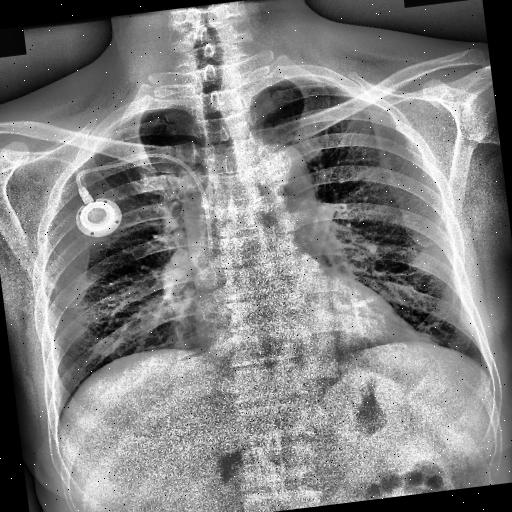0- Aortic enlargement: (238, 140, 314, 212), (244, 140, 316, 211), (248, 142, 316, 202)
